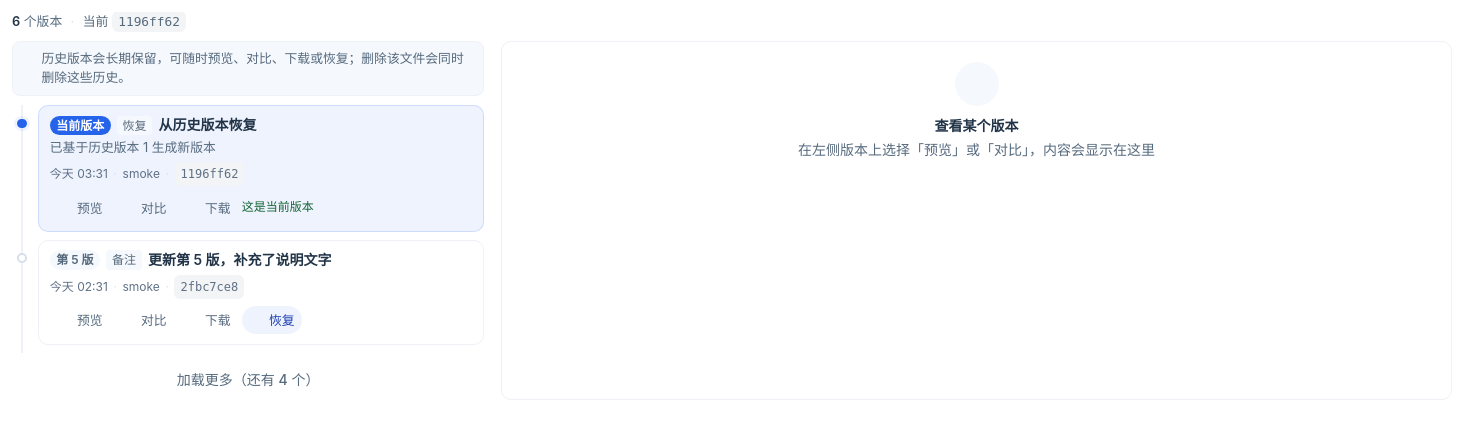
Test: VersionHistory.vue › aborts stale version preview loads and ignores late responses
Expected: the number of list items with class "history-row" is 2, x1=12 y1=105 x2=484 y2=240; x1=12 y1=240 x2=484 y2=353
Click the button "预览" in the row of "这是当前版本".
click(80, 207)  # box x1=50 y1=193 x2=110 y2=221
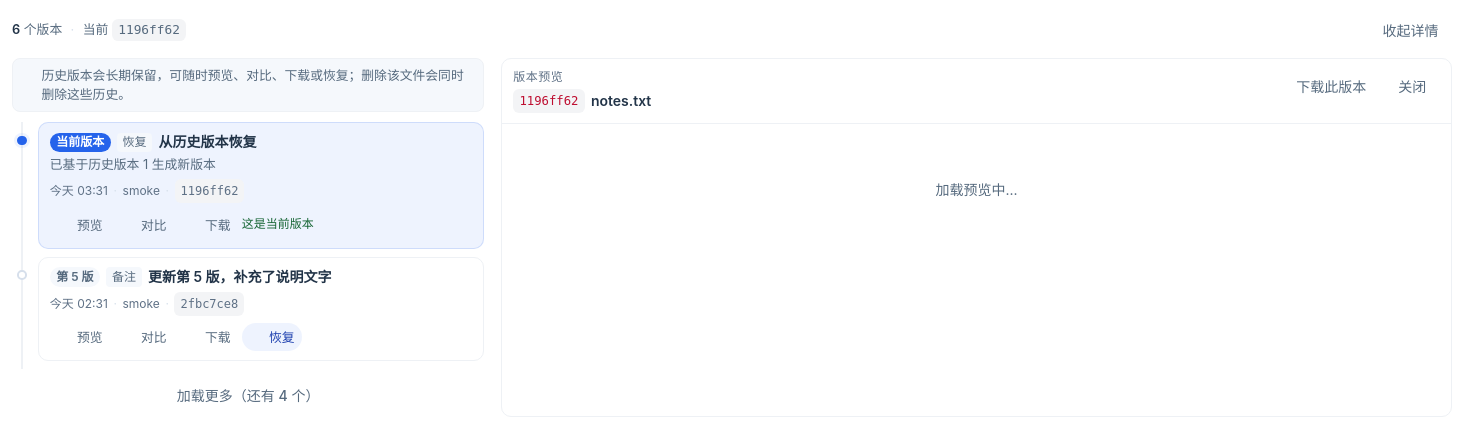
Click the button "预览" below "今天 02:31".
click(80, 337)  # box x1=50 y1=323 x2=110 y2=351
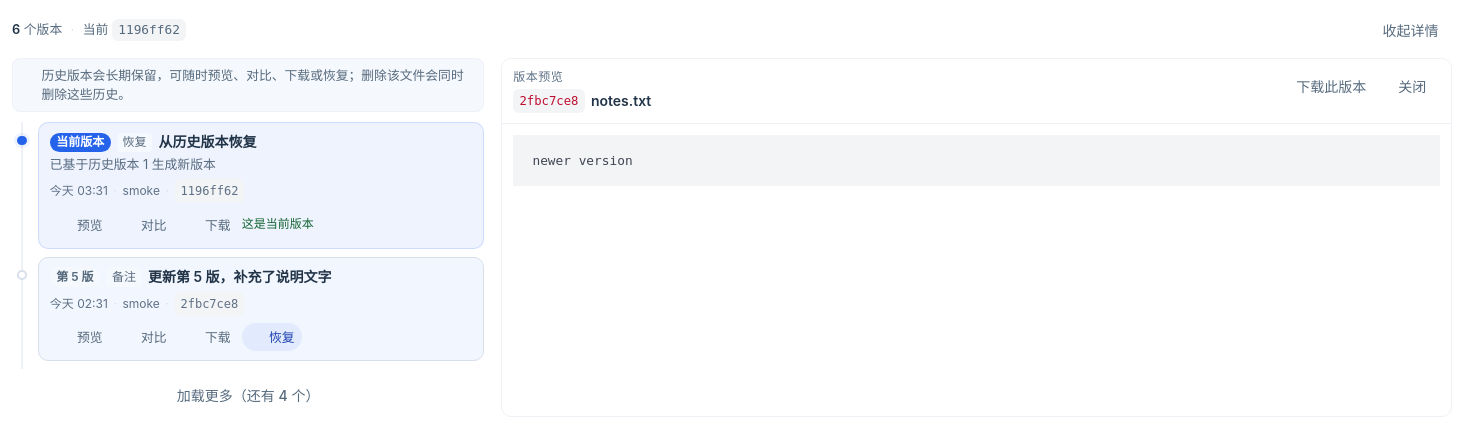
Expected: the text "newer version" is shown, x1=513 y1=135 x2=1440 y2=186
Expected: the text "2fbc7ce8" next to "notes.txt" is shown, x1=519 y1=94 x2=578 y2=108
